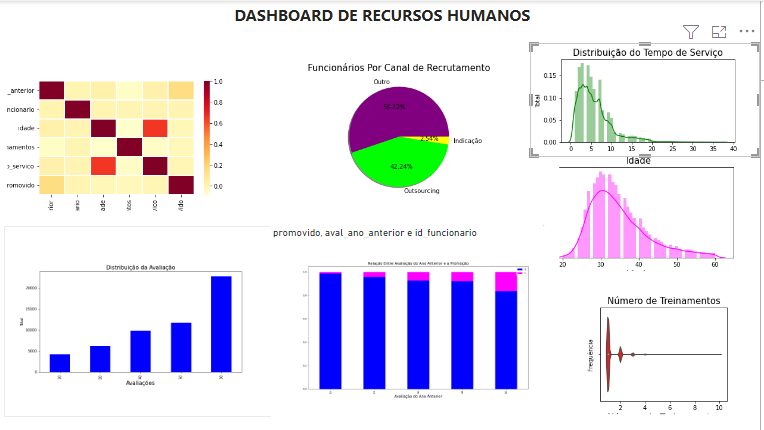

Layout of this report page (visuals, bound fields, positions):
{"tool":"powerbi","page":{"name":"Página 1","canvas":[1280,720],"ordinal":0},"visuals":[{"type":"textbox","box":[9.6,0,1270.4,50.8],"z":0},{"type":"pythonVisual","fields":{"Values":["dadosRH_modificado.aval_ano_anterior","dadosRH_modificado.id_funcionario","dadosRH_modificado.idade","dadosRH_modificado.numero_treinamentos","dadosRH_modificado.tempo_servico","dadosRH_modificado.promovido"]},"box":[9.8,90.6,431,276.7],"z":1000},{"type":"pythonVisual","fields":{"Values":["dadosRH_modificado.tempo_servico","dadosRH_modificado.id_funcionario"]},"box":[893.9,71,386.9,191],"z":2000},{"type":"pythonVisual","fields":{"Values":["dadosRH_modificado.aval_ano_anterior","dadosRH_modificado.id_funcionario"]},"box":[9.8,377.1,448.2,320.8],"z":3000},{"type":"pythonVisual","fields":{"Values":["dadosRH_modificado.idade","dadosRH_modificado.id_funcionario"]},"box":[859.6,249.8,421.2,208.2],"z":4000},{"type":"pythonVisual","fields":{"Values":["dadosRH_modificado.numero_treinamentos","dadosRH_modificado.id_funcionario"]},"box":[972.2,484.9,284.1,213.1],"z":5000},{"type":"pythonVisual","fields":{"Values":["dadosRH_modificado.canal_recrutamento"]},"box":[389.4,75.9,553.5,301.2],"z":6000},{"type":"pythonVisual","fields":{"Values":["dadosRH_modificado.promovido","dadosRH_modificado.aval_ano_anterior","dadosRH_modificado.id_funcionario"]},"box":[456.6,377.6,485.9,319],"z":7000}]}

Visuals, with their boxes on the page's 1280x720 design canvas (x1, y1, x2, y2). These are canvas units, not pixel positions in the 764x430 screenshot, which may show the page scaled, cropped or inside an application window:
textbox: (10,0,1280,51)
pythonVisual - dadosRH_modificado.aval_ano_anterior x dadosRH_modificado.id_funcionario: (10,91,441,367)
pythonVisual - dadosRH_modificado.tempo_servico x dadosRH_modificado.id_funcionario: (894,71,1281,262)
pythonVisual - dadosRH_modificado.aval_ano_anterior x dadosRH_modificado.id_funcionario: (10,377,458,698)
pythonVisual - dadosRH_modificado.idade x dadosRH_modificado.id_funcionario: (860,250,1281,458)
pythonVisual - dadosRH_modificado.numero_treinamentos x dadosRH_modificado.id_funcionario: (972,485,1256,698)
pythonVisual - dadosRH_modificado.canal_recrutamento: (389,76,943,377)
pythonVisual - dadosRH_modificado.promovido x dadosRH_modificado.aval_ano_anterior: (457,378,942,697)
